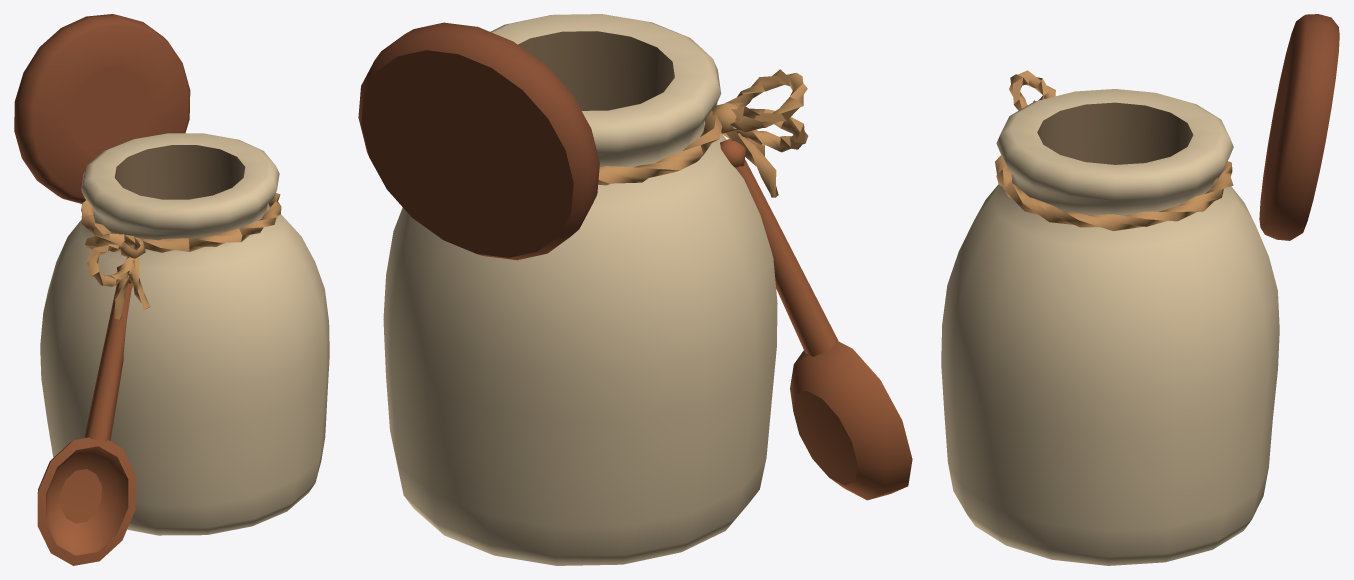
The model's file is ration-empty.glb.
3 renders of one model, left to right at view 1: azimuth 30°, elevation 25°; view 2: azimuth 150°, elevation 25°; view 3: azimuth 270°, elevation 25°, orthographic. The views are drawn at different scales.
Parts seen in each view (by area): view 1: jar, lid, scoop, rope; view 2: jar, lid, scoop, rope; view 3: jar, lid, rope.
Boxes of the visible parts, bbox=[...] form: jar: bbox=[40, 133, 329, 535]; lid: bbox=[14, 14, 190, 203]; scoop: bbox=[37, 264, 135, 565]; rope: bbox=[81, 193, 281, 319]; jar: bbox=[383, 14, 777, 565]; lid: bbox=[358, 22, 599, 260]; scoop: bbox=[720, 138, 912, 500]; rope: bbox=[598, 69, 808, 197]; jar: bbox=[941, 89, 1279, 565]; lid: bbox=[1259, 14, 1339, 240]; rope: bbox=[995, 70, 1233, 230].
Size of the model in its own units: 0.5625 by 0.6799 by 0.5101.
